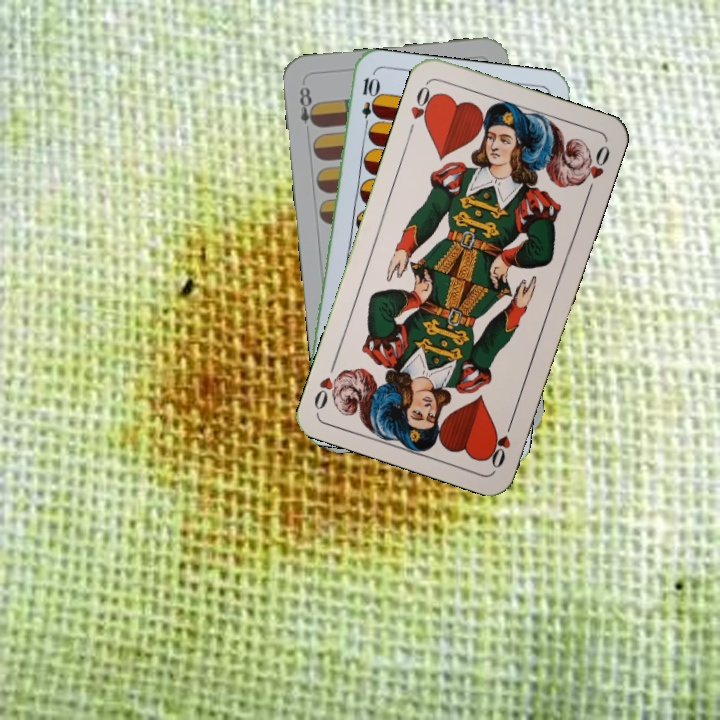E10: (357, 73, 378, 133)
E8: (295, 82, 320, 130)
HO: (405, 80, 439, 137), (484, 414, 516, 471)
